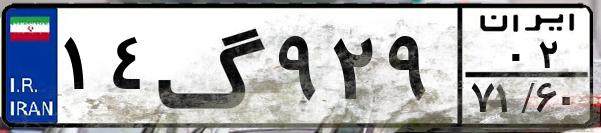0: (560, 70, 590, 125), (508, 27, 537, 80)
1: (57, 26, 110, 100), (495, 70, 520, 125)
2: (330, 28, 385, 110), (537, 27, 568, 80)
4: (110, 28, 156, 98)
6: (535, 70, 560, 125)
7: (470, 70, 495, 125)
9: (270, 28, 330, 110), (385, 28, 445, 110)
گ: (156, 12, 270, 120)
